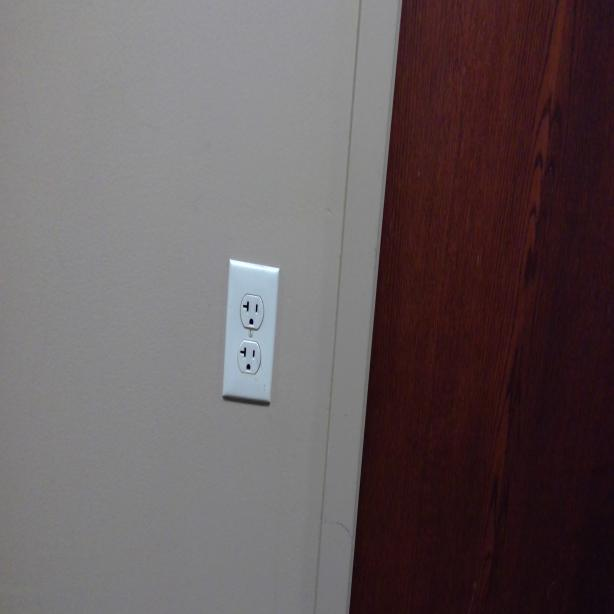typeb: (240, 296, 264, 330), (238, 341, 260, 375)
